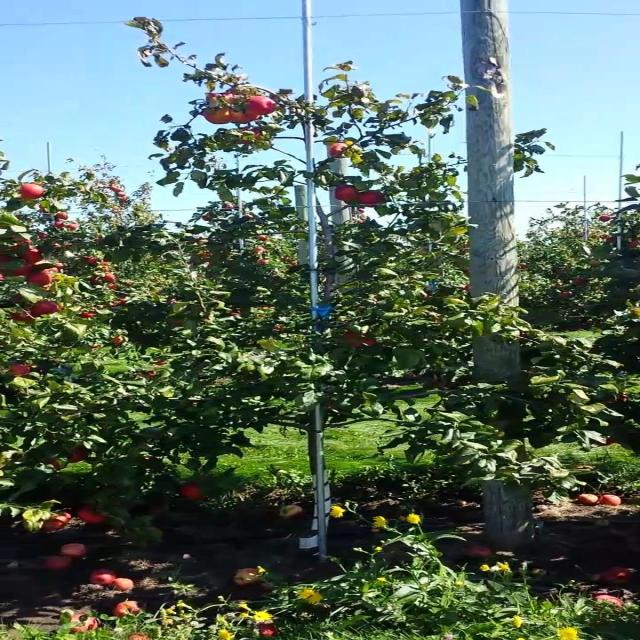apple: (247, 95, 276, 114), (78, 506, 107, 524), (204, 91, 238, 106), (333, 185, 358, 204), (18, 182, 44, 200), (229, 109, 260, 124), (31, 300, 60, 316), (202, 108, 231, 124), (180, 482, 204, 500), (358, 190, 384, 206), (27, 271, 53, 286), (347, 335, 376, 348), (33, 260, 64, 272), (7, 362, 33, 376), (69, 445, 89, 462), (238, 128, 262, 142), (229, 110, 251, 124), (22, 248, 42, 263), (602, 392, 629, 403), (13, 262, 33, 276), (329, 141, 347, 156), (13, 235, 31, 248), (11, 312, 36, 321), (47, 459, 64, 470), (342, 331, 362, 339), (342, 331, 358, 340), (102, 272, 116, 282), (362, 338, 376, 346), (604, 438, 618, 446), (153, 360, 167, 365)
